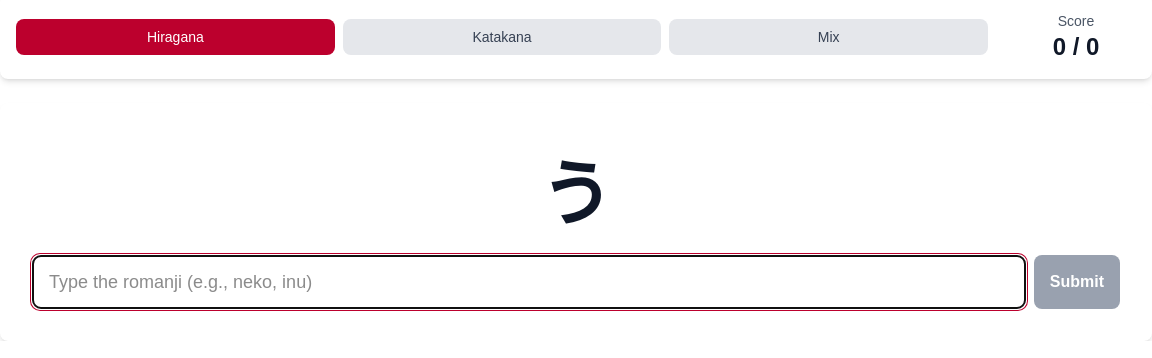
WordsSection › Type Selection › should switch to katakana words when katakana button clicked
Click the button "Katakana" at (502, 37), box [343,19,661,55]
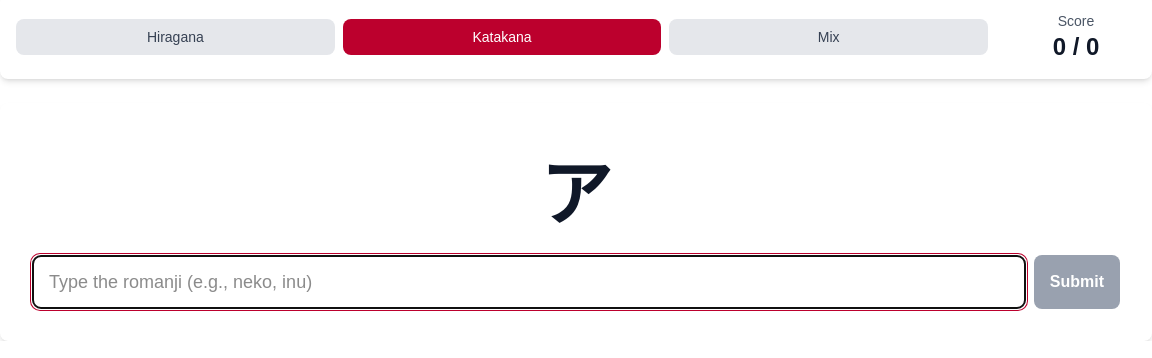
Expected: the text "ア" is shown, [540,155,612,235]
